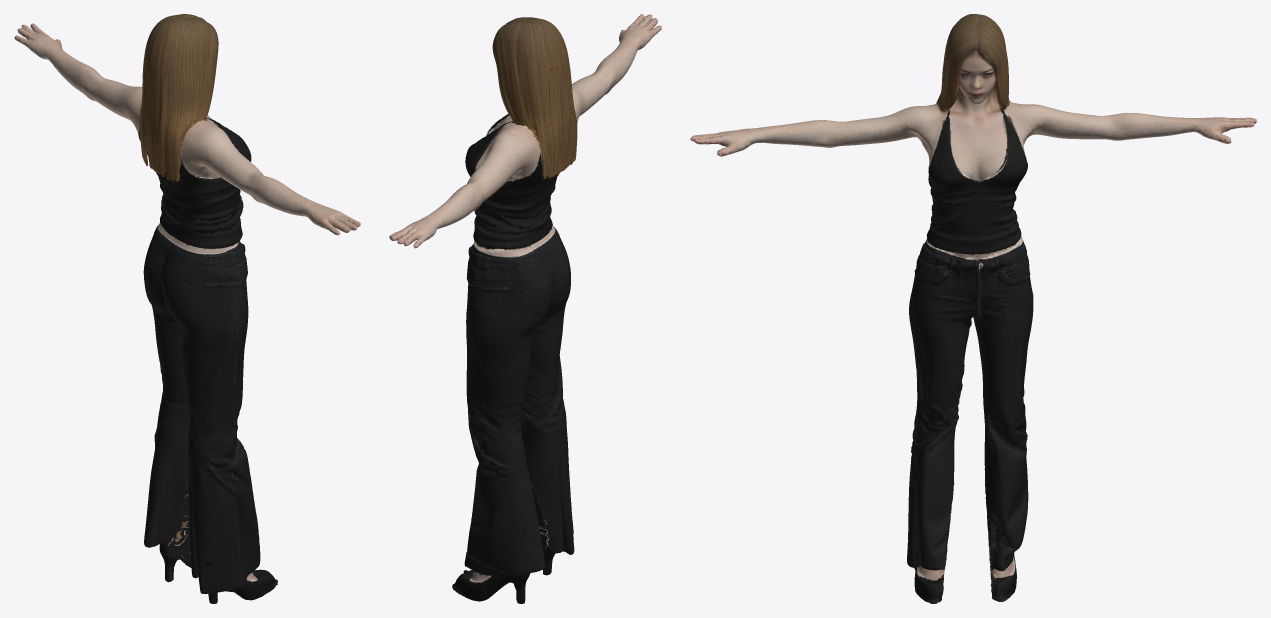
Rendered from AnyaModel.fbx.
3 views of the same model, side by side, from view 1: azimuth 30°, elevation 25°; view 2: azimuth 150°, elevation 25°; view 3: azimuth 270°, elevation 25° (orthographic). The views are drawn at different scales.
Visible parts, largest first — view 1: tripo_node_5cc79c8a; view 2: tripo_node_5cc79c8a; view 3: tripo_node_5cc79c8a.
Boxes of the visible parts, x1,y1,x2,y2 form: tripo_node_5cc79c8a: (14, 14, 360, 603); tripo_node_5cc79c8a: (389, 14, 661, 603); tripo_node_5cc79c8a: (690, 14, 1256, 603).
Bounding box in the file's own units: 20.01 × 100 × 92.63.
1 material, 1 textured.
